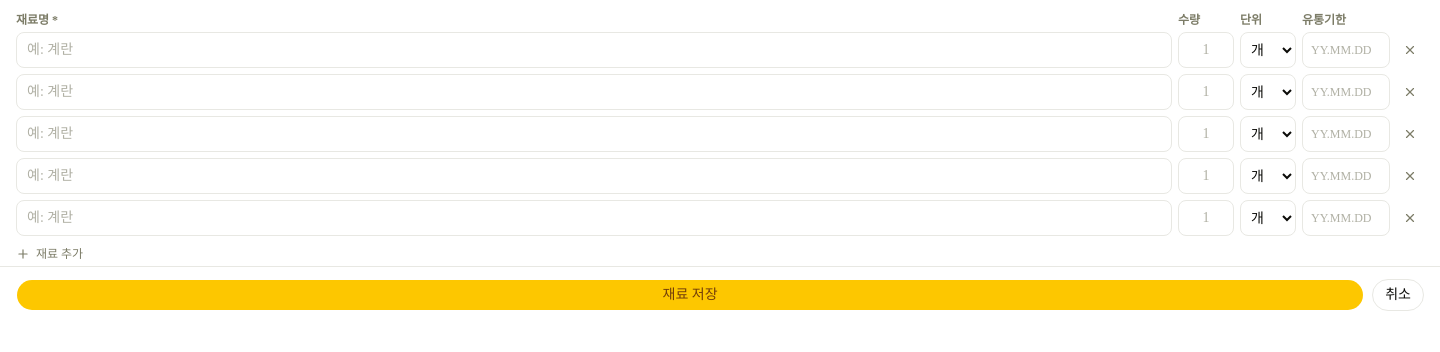
Test: IngredientForm › shows validation error when no name is filled
Step 1. Click the button "재료 저장" → (690, 295), box [16, 279, 1364, 311]
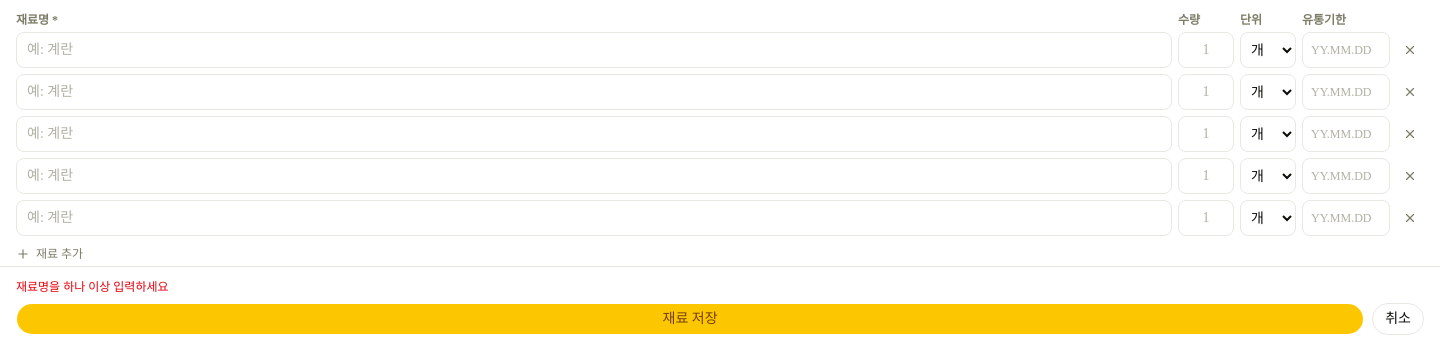
Expected: the text "재료명을 하나 이상 입력하세요" is shown, [16, 280, 168, 294]
